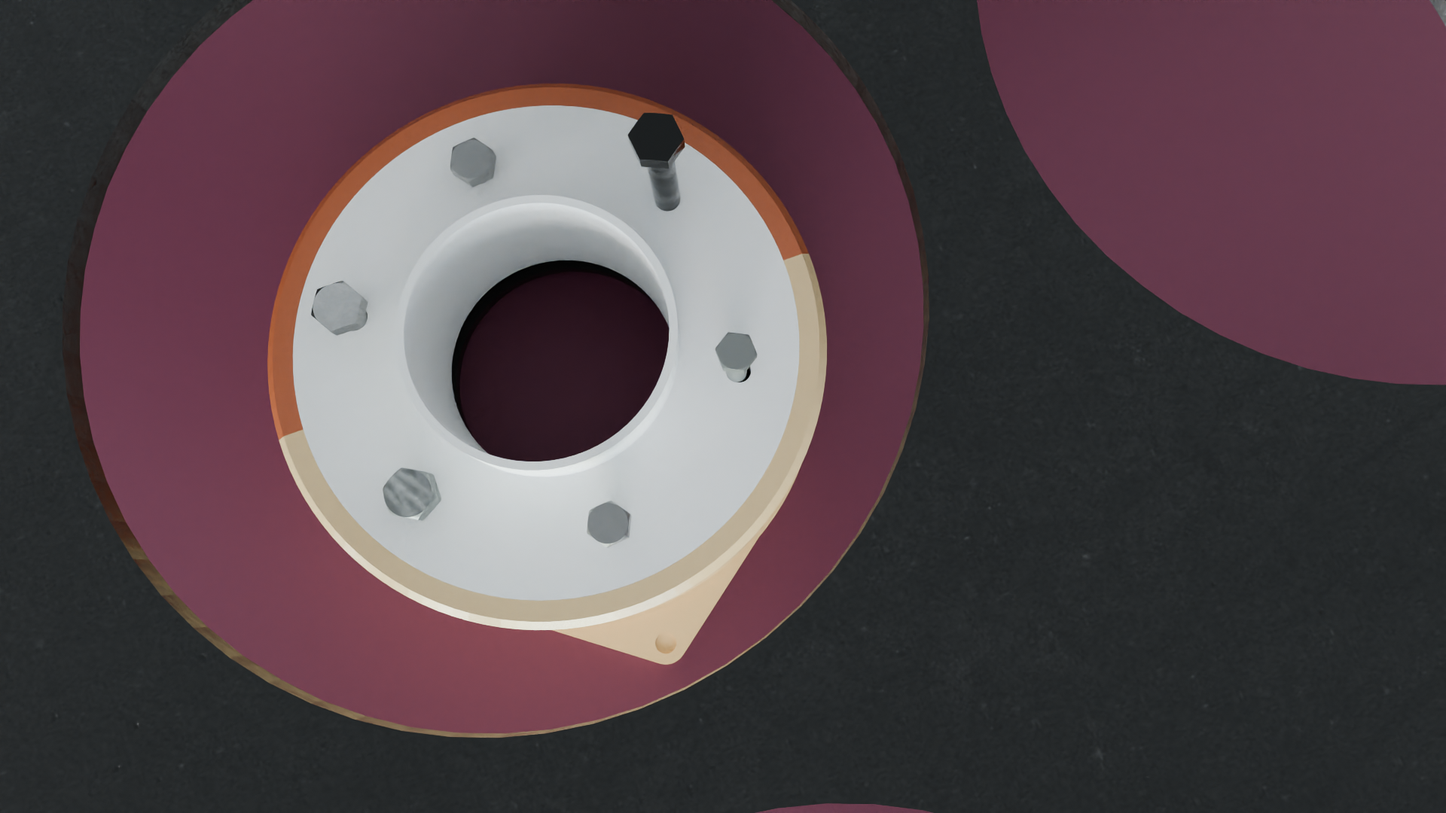bolt: (383, 467, 437, 520), (627, 113, 684, 161), (311, 281, 362, 332), (587, 501, 630, 547), (450, 138, 493, 181), (715, 332, 758, 371)
